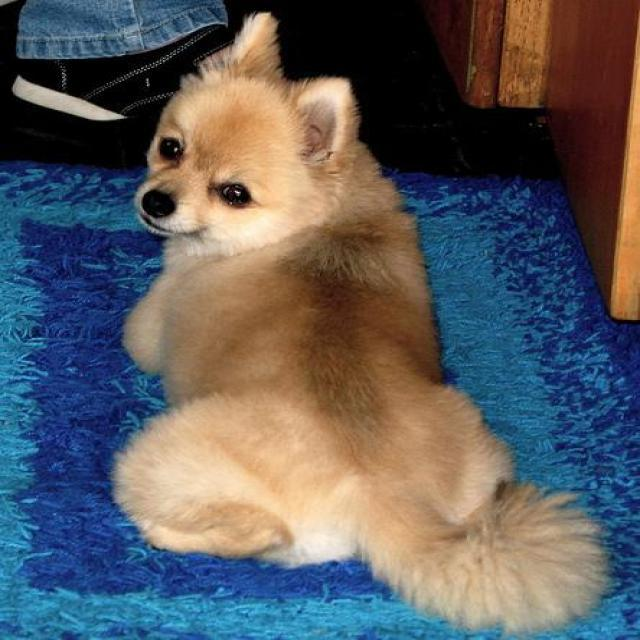puppy-dog: (108, 16, 611, 628)
